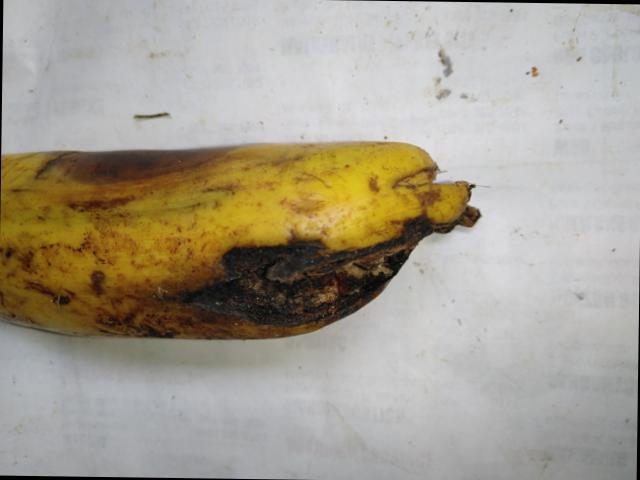ripe: (0, 115, 178, 344)
rotten: (141, 215, 445, 364), (29, 109, 261, 204)
